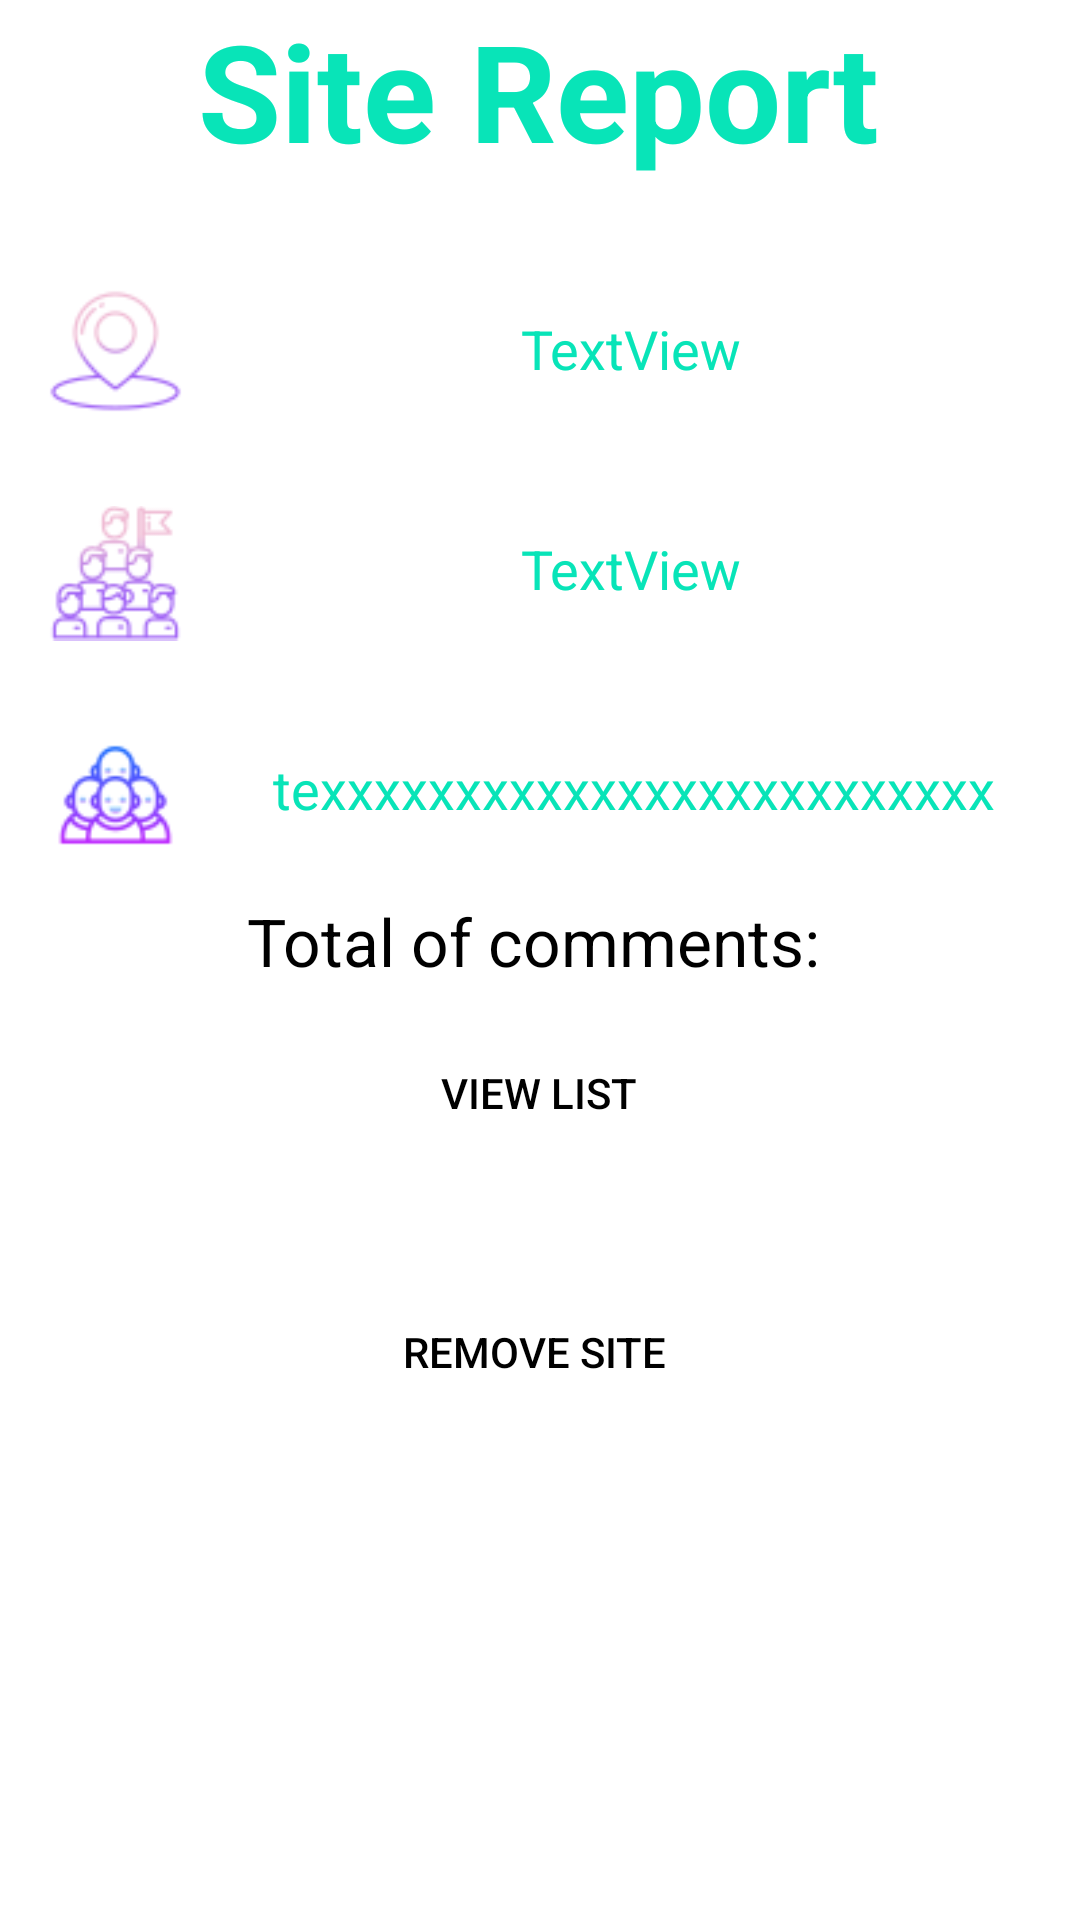

Named icons in this screenshot (1080*1920) and their bounding boxes, (x1, y1, x2, y2):
leader: (52, 506, 179, 641)
location name: (50, 292, 181, 411)
